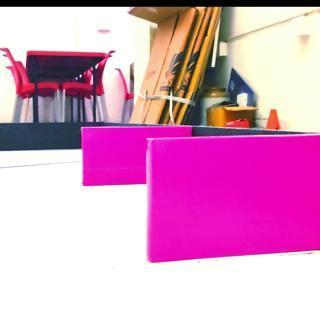xparking: (147, 134, 320, 254), (80, 125, 144, 185)
